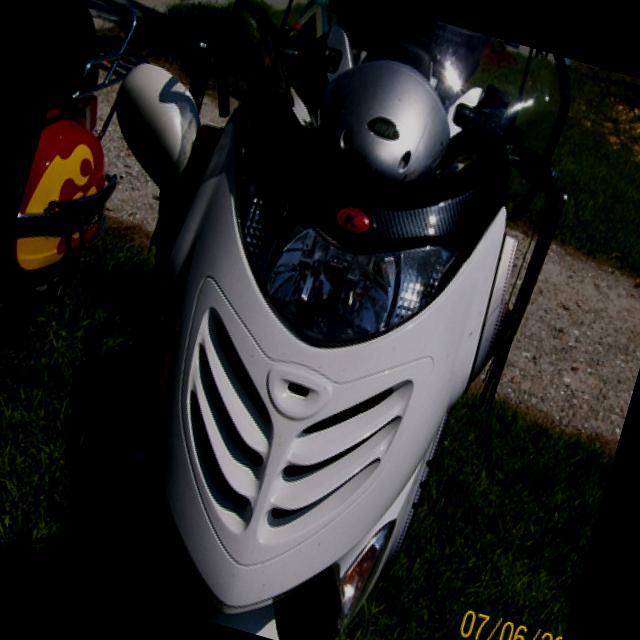Vehicle: (0, 0, 602, 640), (0, 0, 167, 412)
